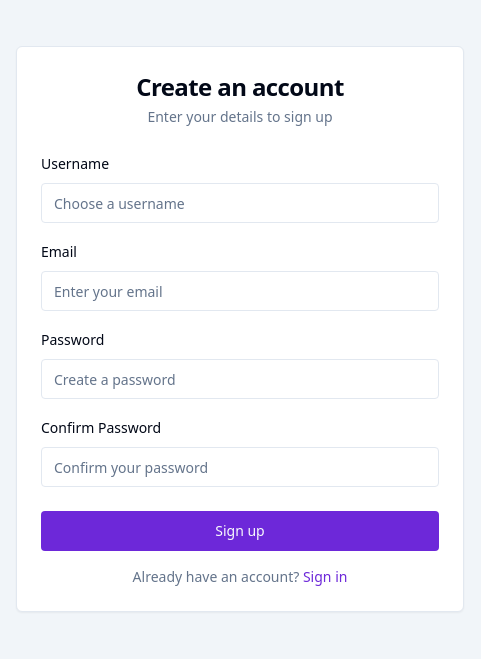
Scenario: Signup › shows error when password is too short
Type "testuser" into the field labelled "Username" at [240, 203], box 41,183 -> 439,223
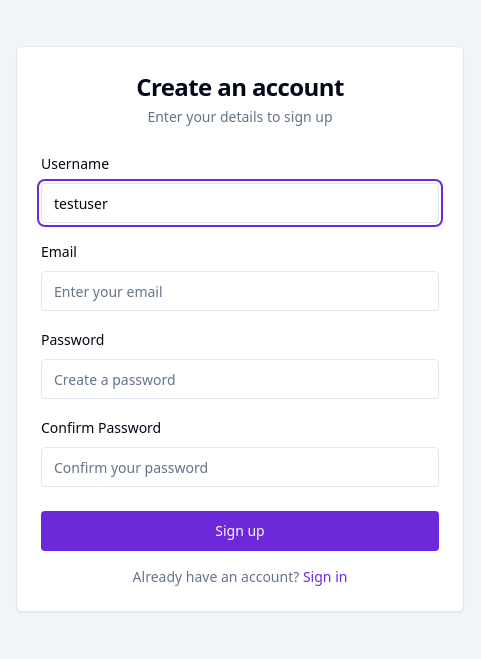
Type "test@example.com" into the field labelled "Email" at [240, 291], box 41,271 -> 439,311
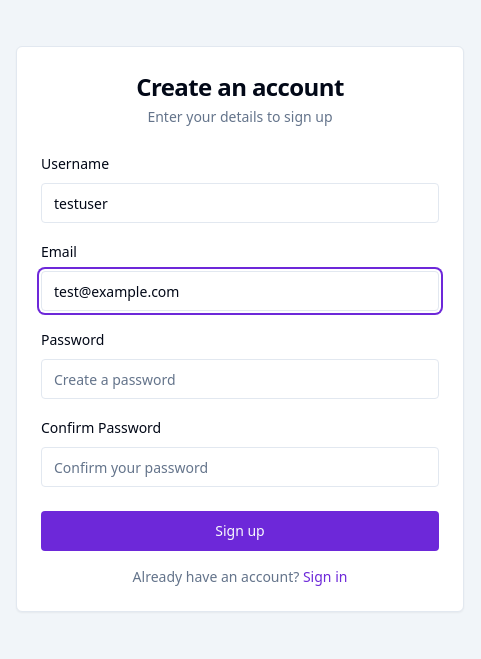
Type "short" into the password field labelled "Password" at [240, 379], box 41,359 -> 439,399
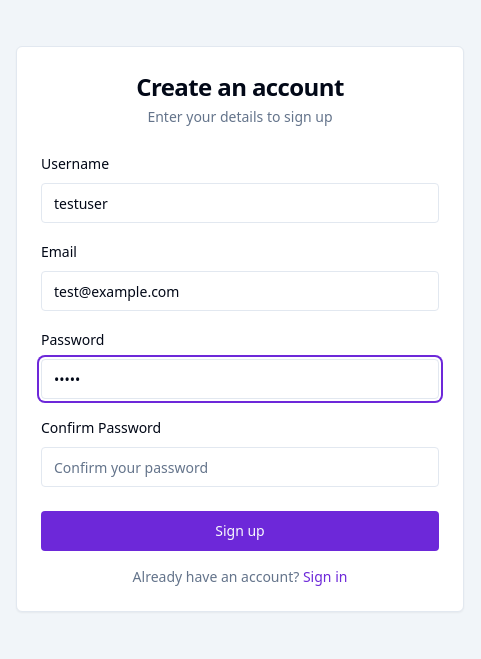
Type "short" into the password field labelled "Confirm Password" at [240, 467], box 41,447 -> 439,487
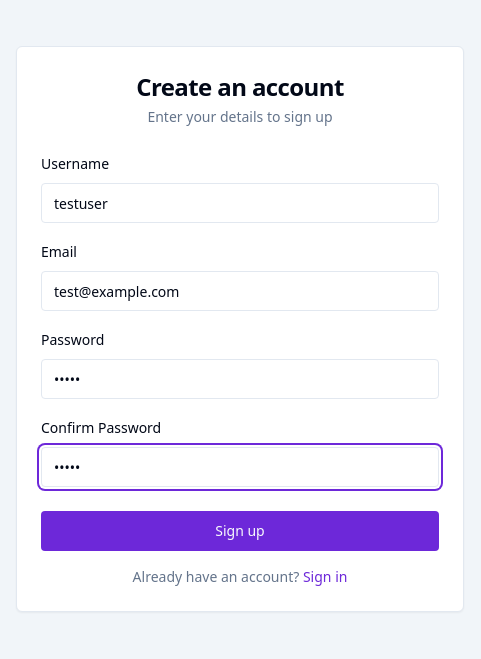
Click the button "Sign up" at [240, 531], box 41,511 -> 439,551
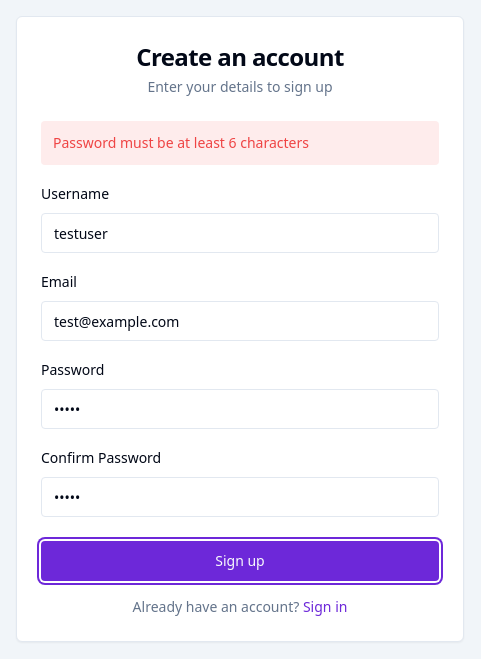
Expected: the text "Password must be at least 6 characters" is shown, 41,121 -> 439,165
